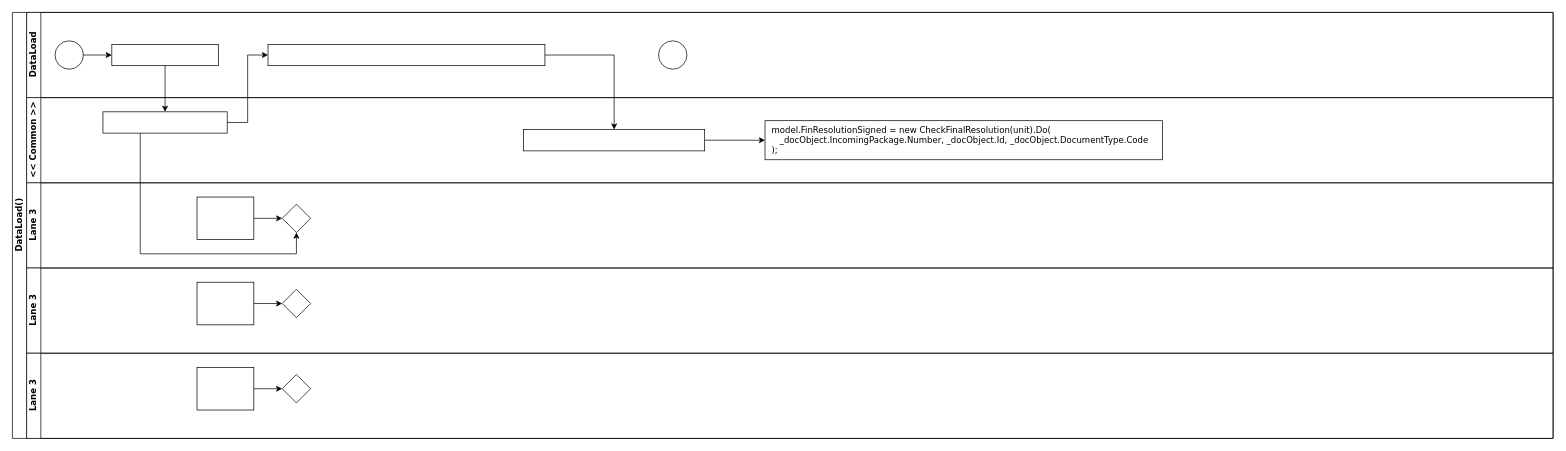
Image size: 1566x451. Some labels were removed from this diagram. The centre of each missing label's shape, as x and y in pixels:
"model.IsFinResolution = _docObject.ResolutionTemplate.IsFinal" goes at (614,140).
"model.IsFinResolution = false;" goes at (164,122).
"new DocumentModel()" goes at (164,55).
"new GetDocumentTemplate(unit).Do(_docObject.ResolutionKindId)" goes at (406,55).
